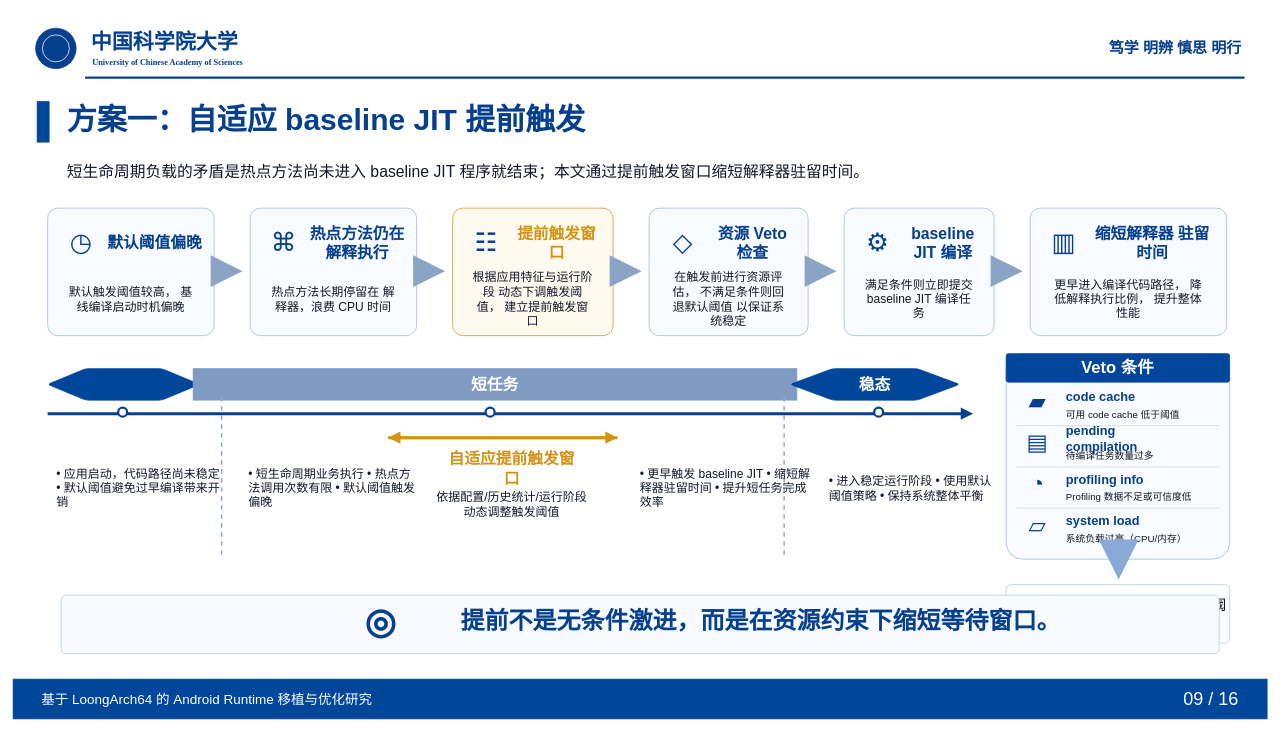
Some shapes in this 1280 by 732 pixel diagram are drawn without their labels. The box of each missing label's shape, as (x1, y1, x2, y2) in pixels:
UCAS: (42, 34, 69, 62)
启动期: (47, 368, 200, 400)
